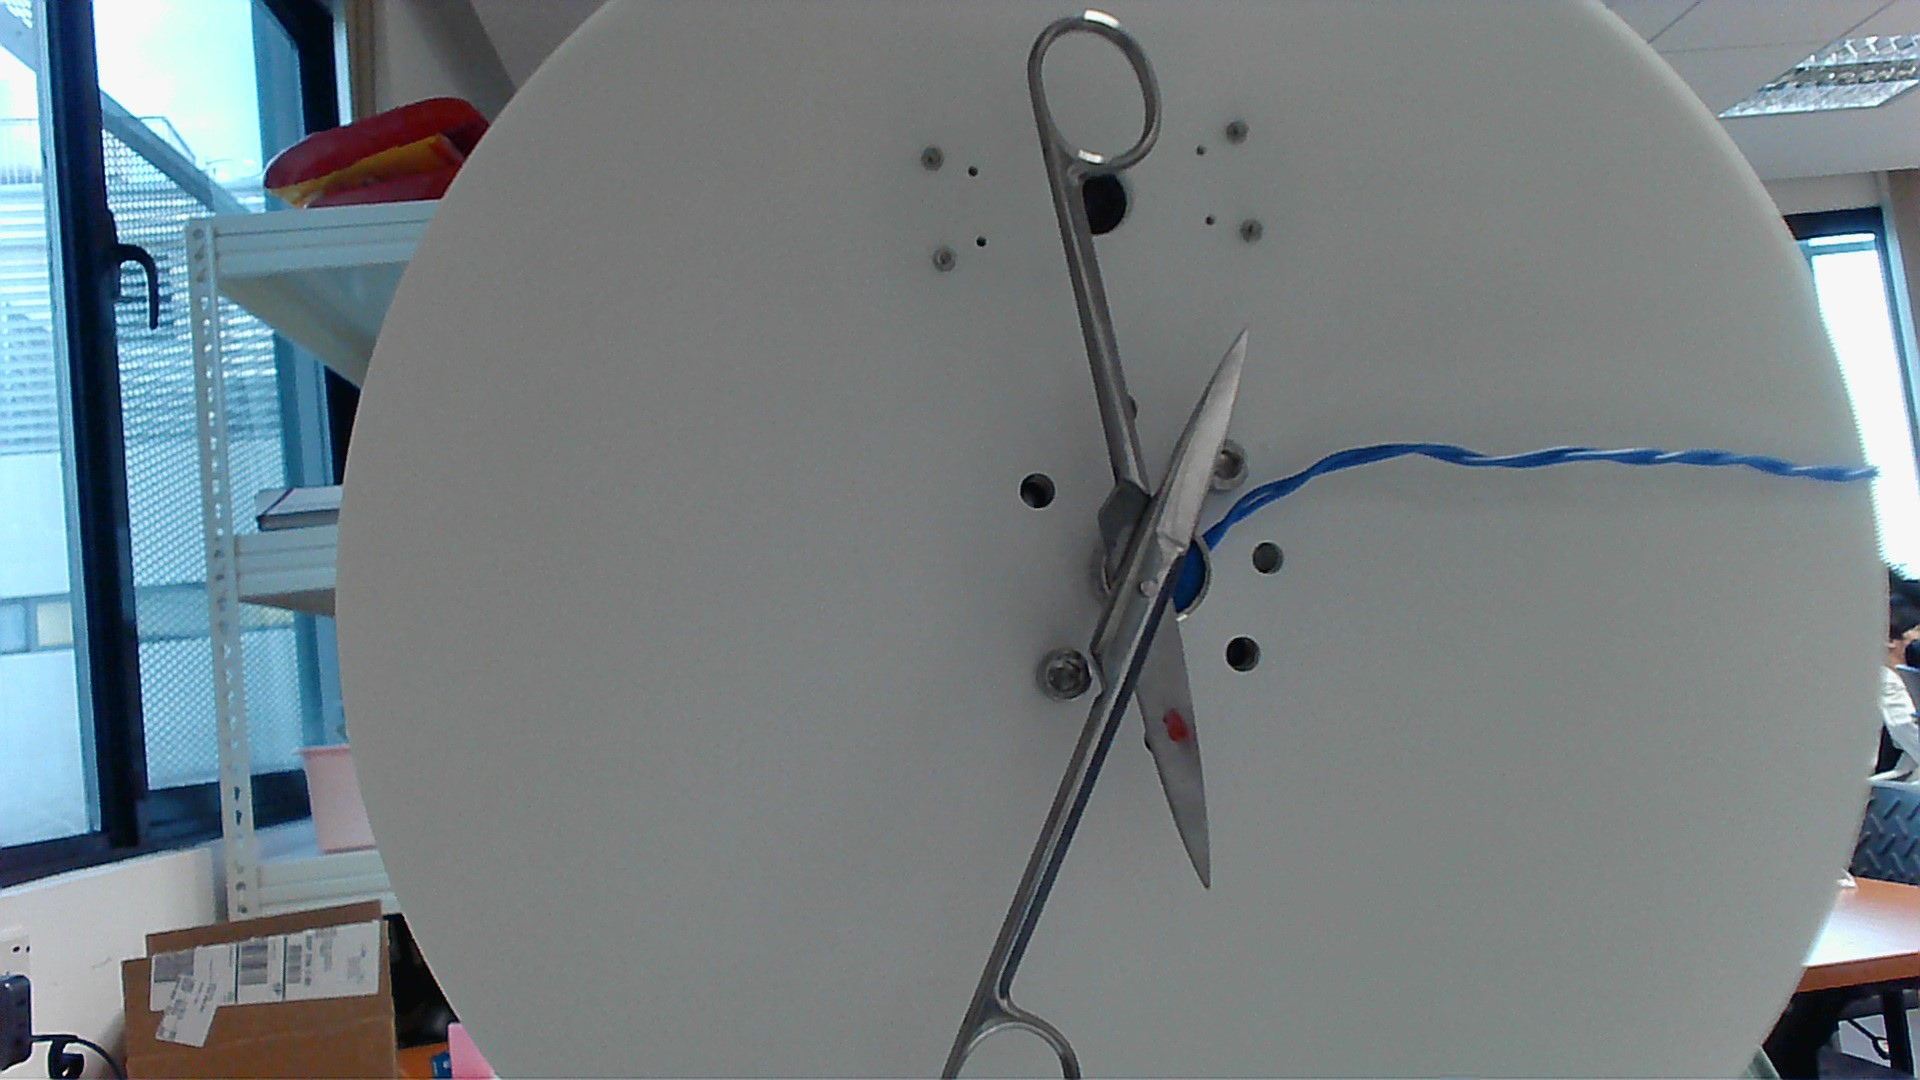Stain: (1155, 703, 1200, 754)
